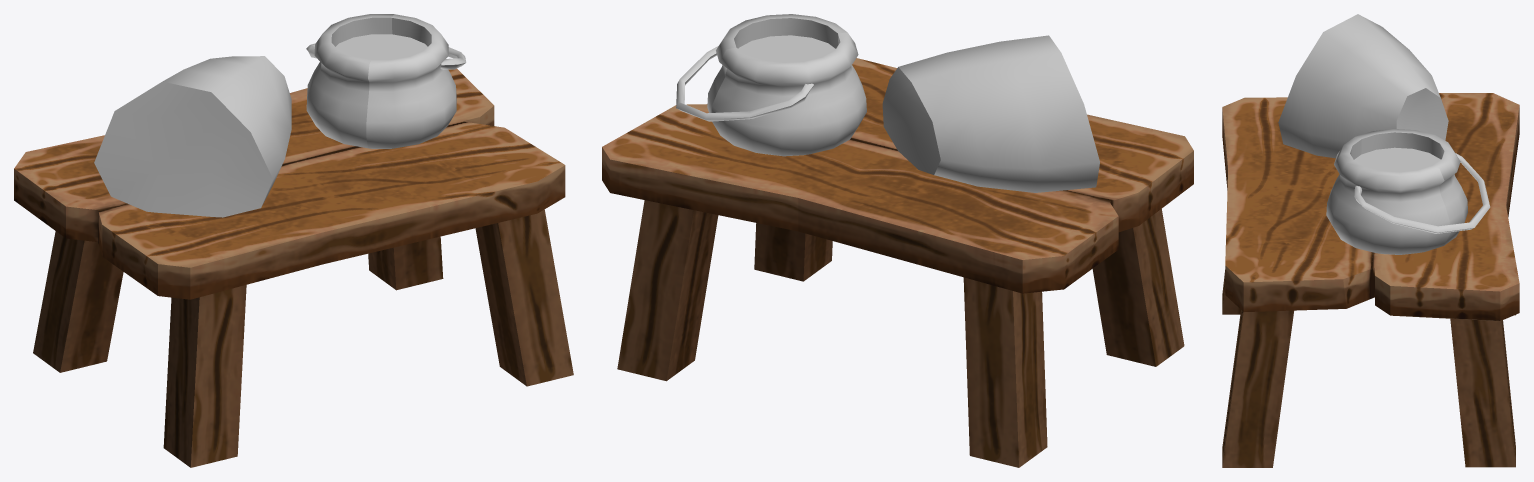
The model's file is Table_2.fbx.
3 views of the same model, side by side, from view 1: azimuth 30°, elevation 25°; view 2: azimuth 150°, elevation 25°; view 3: azimuth 270°, elevation 25° (orthographic). The views are drawn at different scales.
Parts seen in each view (by area): view 1: Table_2; view 2: Table_2; view 3: Table_2.
Boxes of the visible parts, left/top/right/bottom form: Table_2: left=14, top=14, right=573, bottom=467; Table_2: left=602, top=14, right=1193, bottom=467; Table_2: left=1222, top=14, right=1519, bottom=467.
Bounding box in the file's own units: 2.56 × 1.81 × 1.62.
